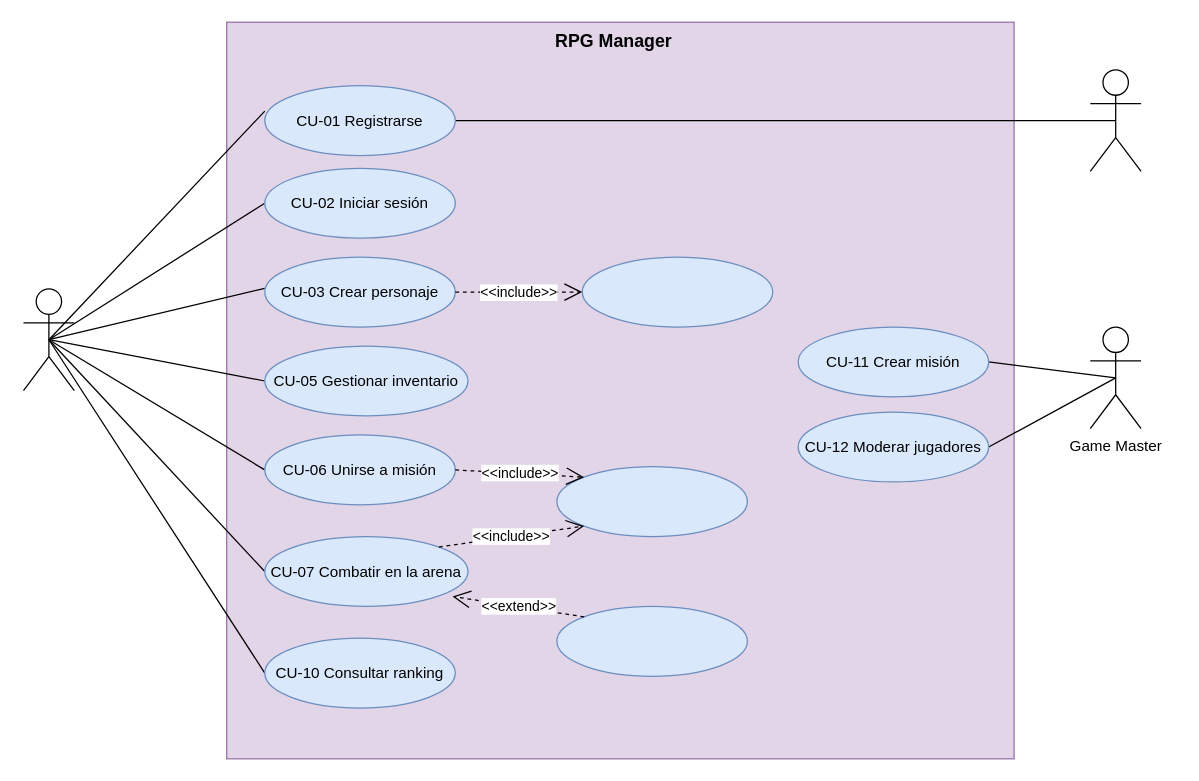
This 1199x781 diagram has some shape labels left out. The shapes that lost their labels are listed below. From the top down, each one's centre as x and y in pixels, then its label:
At (x=1115, y=120): "Servicio de correo".
At (x=677, y=291): "CU-4 Elegir clase".
At (x=48, y=339): "Jugador".
At (x=651, y=501): "CU-08 Validar personaje vivo".
At (x=651, y=640): "CU-09 Usar poción".
